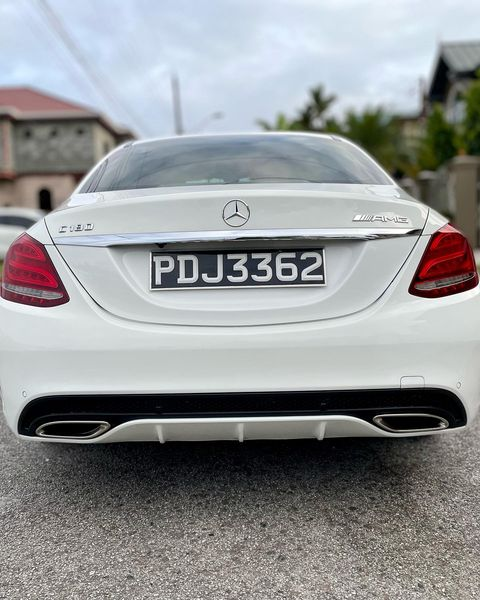License-Plate: (151, 252, 324, 288)
